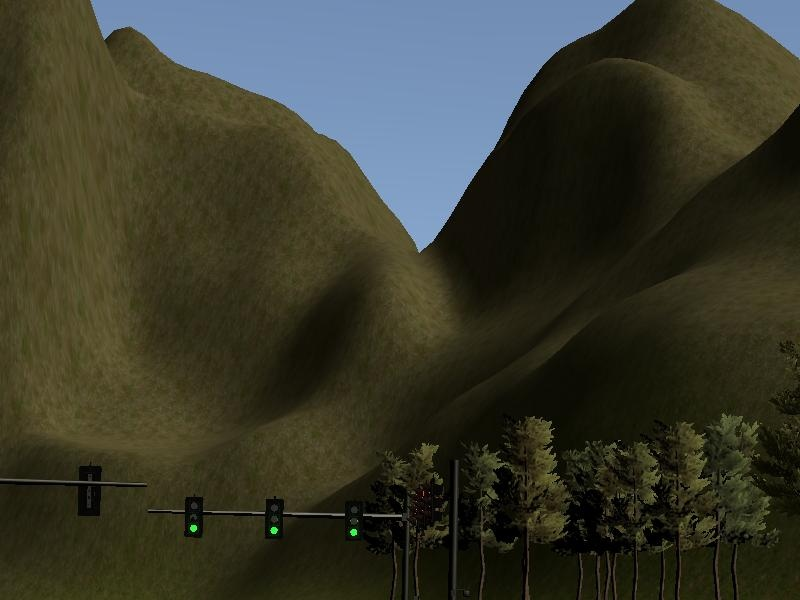traffic_light_green: (147, 491, 383, 543)
